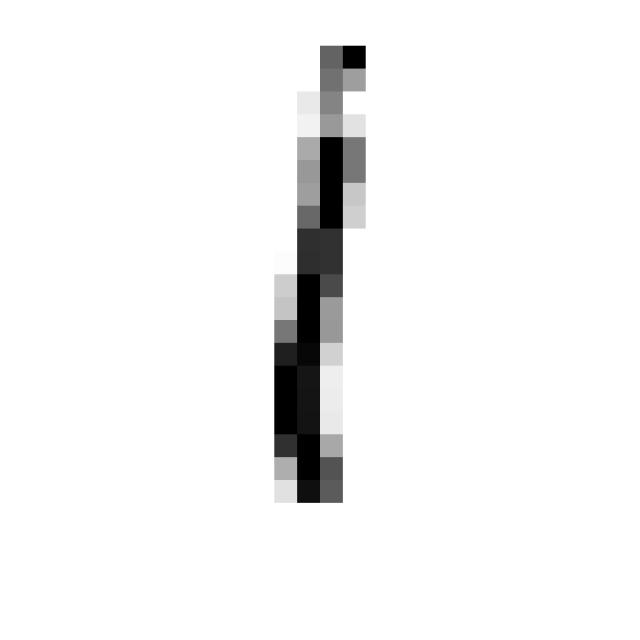1 -one-: (254, 27, 395, 523)
